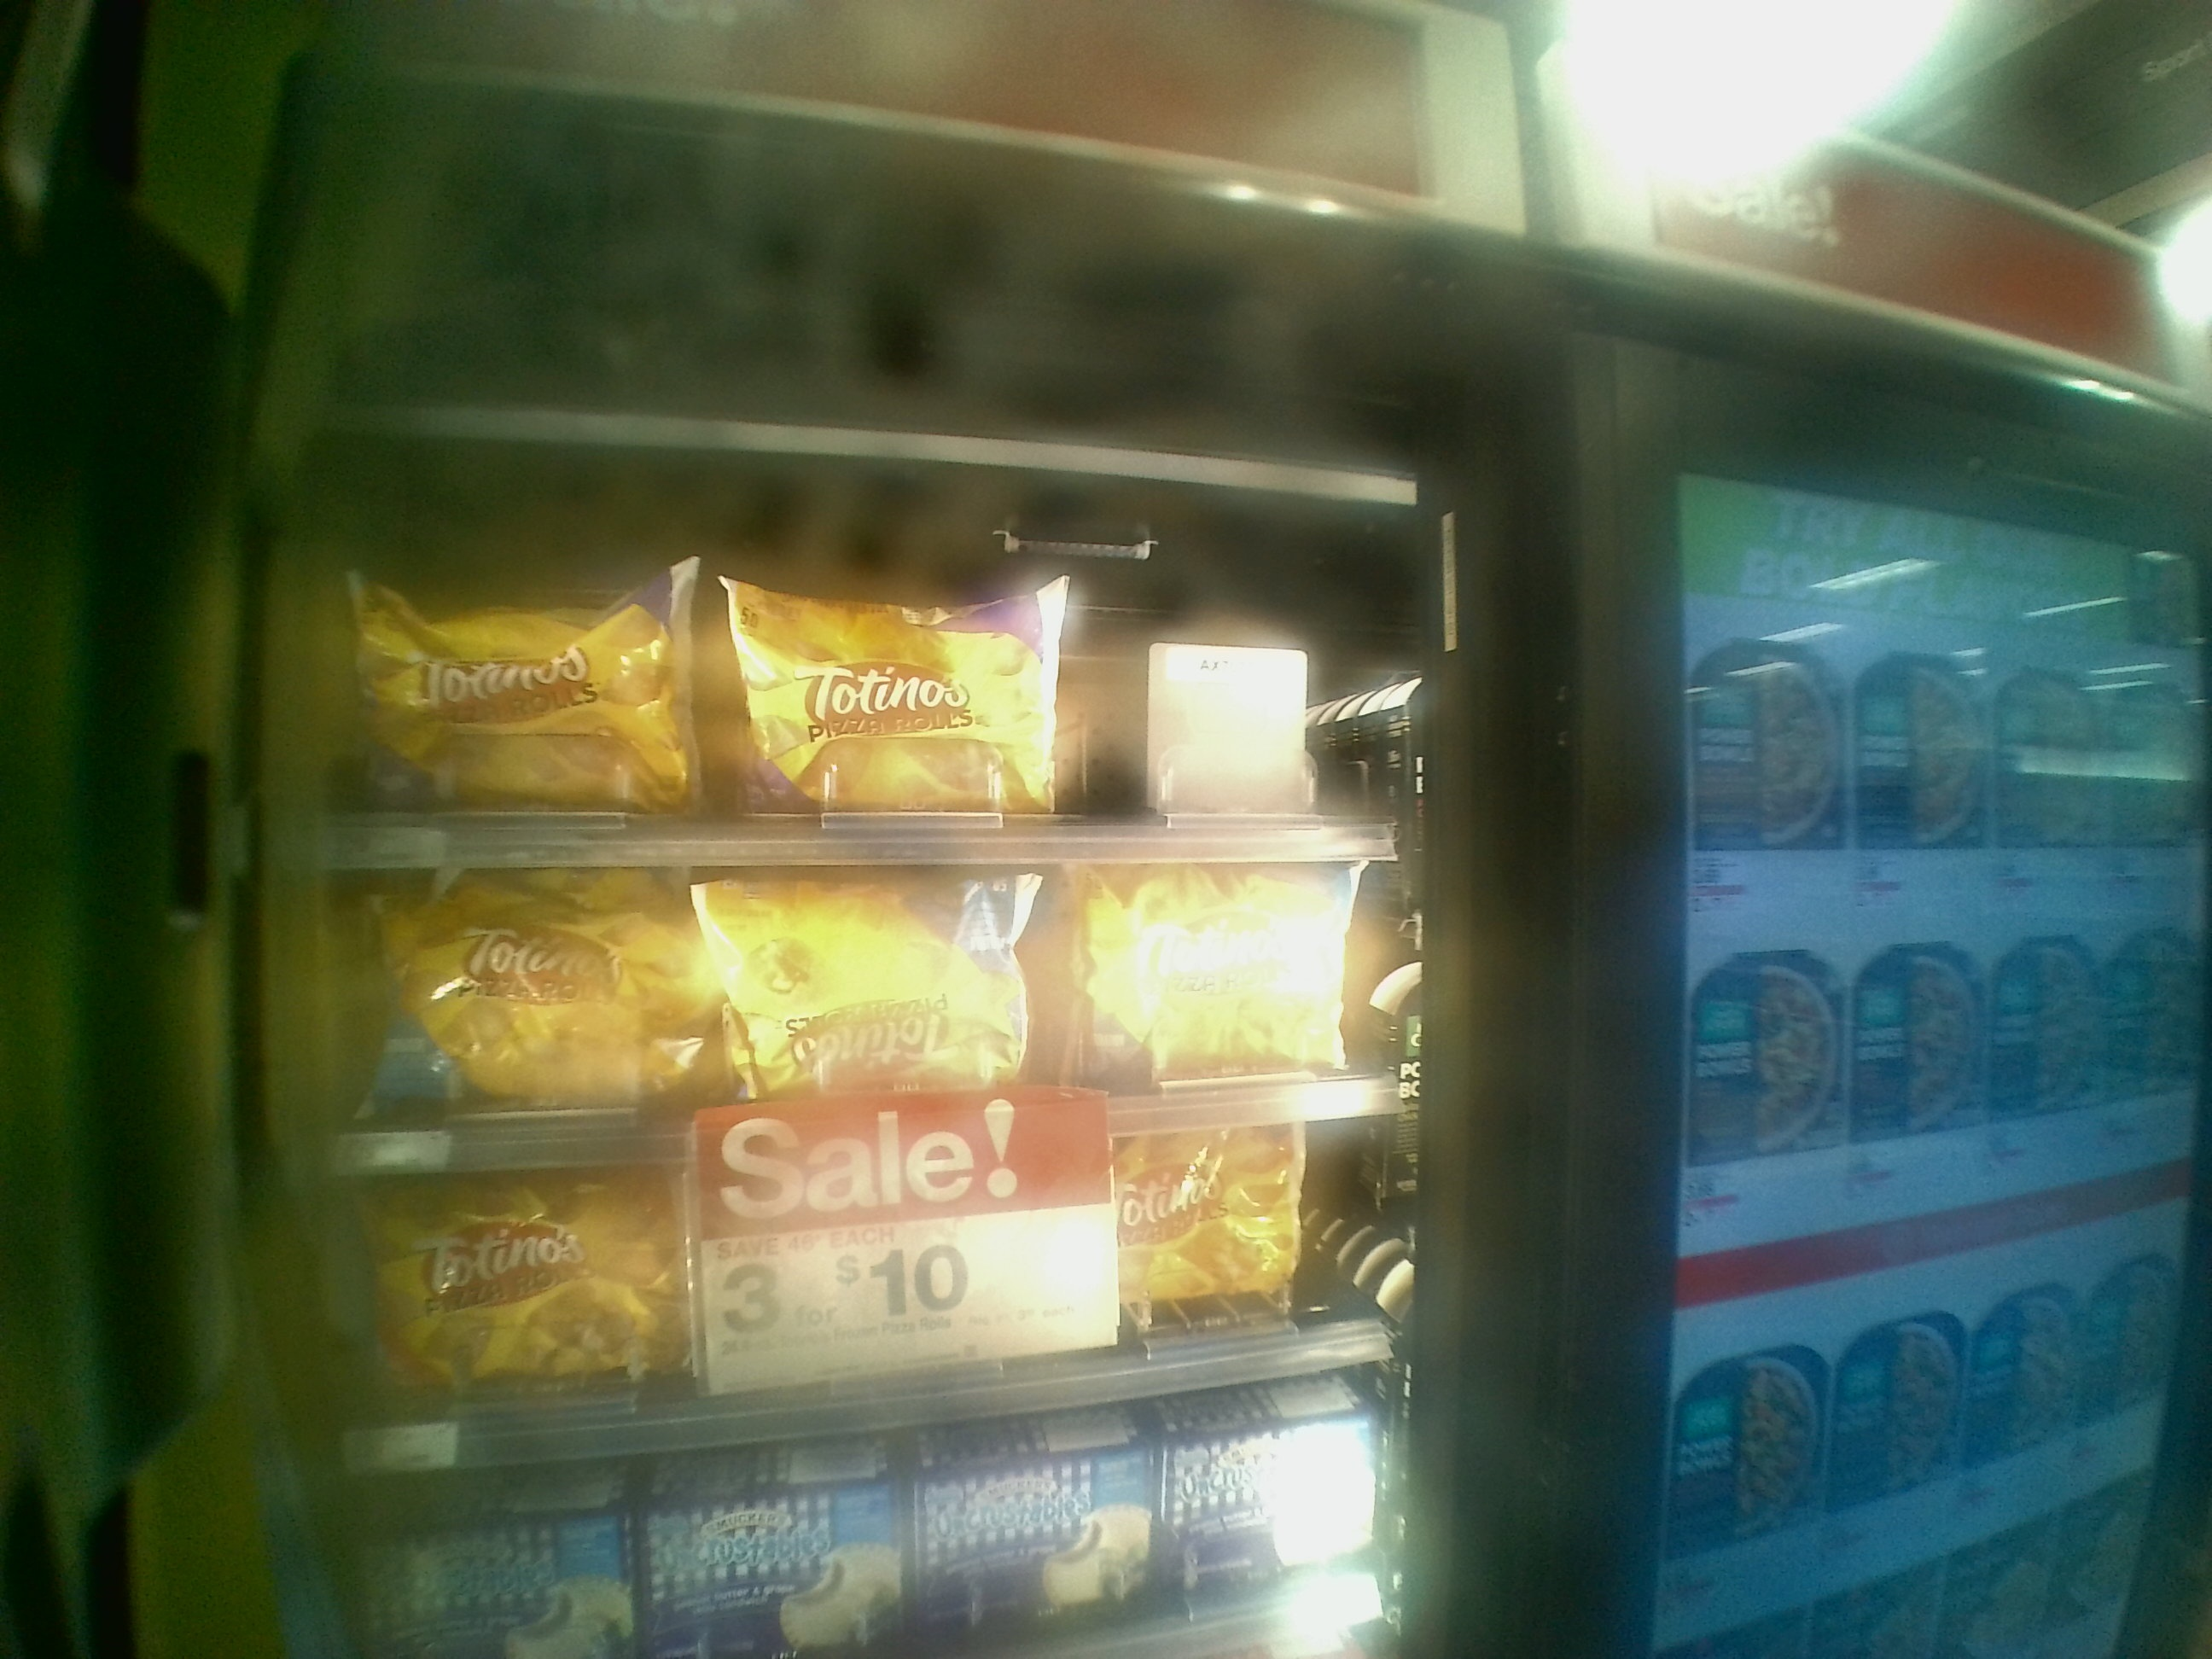shelf: (291, 410, 1442, 870), (280, 868, 1425, 1168)
